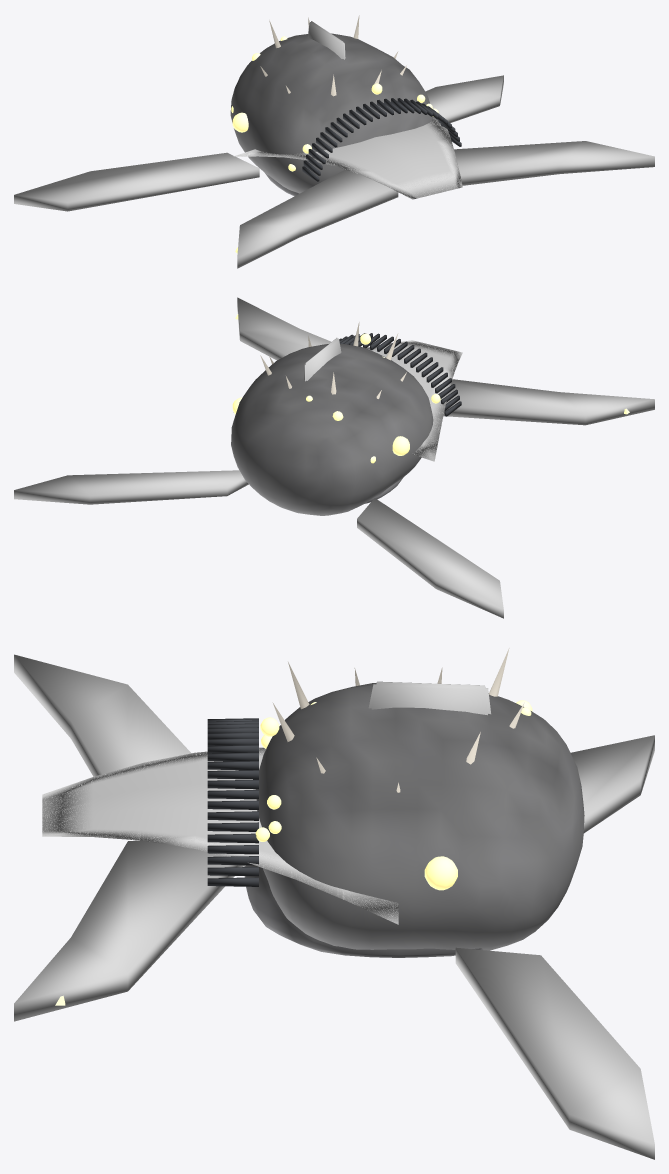
Rendered from leviathan.glb.
3 renders of one model, top to bottom at view 1: azimuth 30°, elevation 25°; view 2: azimuth 150°, elevation 25°; view 3: azimuth 270°, elevation 25°, orthographic. The views are drawn at different scales.
Visible parts, largest first — view 1: leviathan_head, leviathan_tail, leviathan_petal, leviathan_seg, leviathan_node; view 2: leviathan_head, leviathan_tail, leviathan_petal, leviathan_seg, leviathan_node; view 3: leviathan_head, leviathan_tail, leviathan_petal, leviathan_seg, leviathan_node.
Boxes of the visible parts, left/top/right/bottom form: leviathan_head: left=14, top=33, right=503, bottom=211; leviathan_tail: left=235, top=141, right=654, bottom=268; leviathan_petal: left=233, top=107, right=462, bottom=199; leviathan_seg: left=231, top=21, right=438, bottom=196; leviathan_node: left=260, top=15, right=406, bottom=96; leviathan_head: left=14, top=333, right=503, bottom=618; leviathan_tail: left=235, top=297, right=654, bottom=425; leviathan_petal: left=233, top=340, right=462, bottom=461; leviathan_seg: left=304, top=333, right=440, bottom=503; leviathan_node: left=260, top=322, right=406, bottom=398; leviathan_head: left=207, top=683, right=654, bottom=1159; leviathan_tail: left=14, top=654, right=245, bottom=1021; leviathan_petal: left=42, top=747, right=398, bottom=924; leviathan_seg: left=244, top=681, right=532, bottom=957; leviathan_node: left=272, top=648, right=524, bottom=792.
Bounding box in the file's own units: 3.4 × 1.09 × 2.25.
